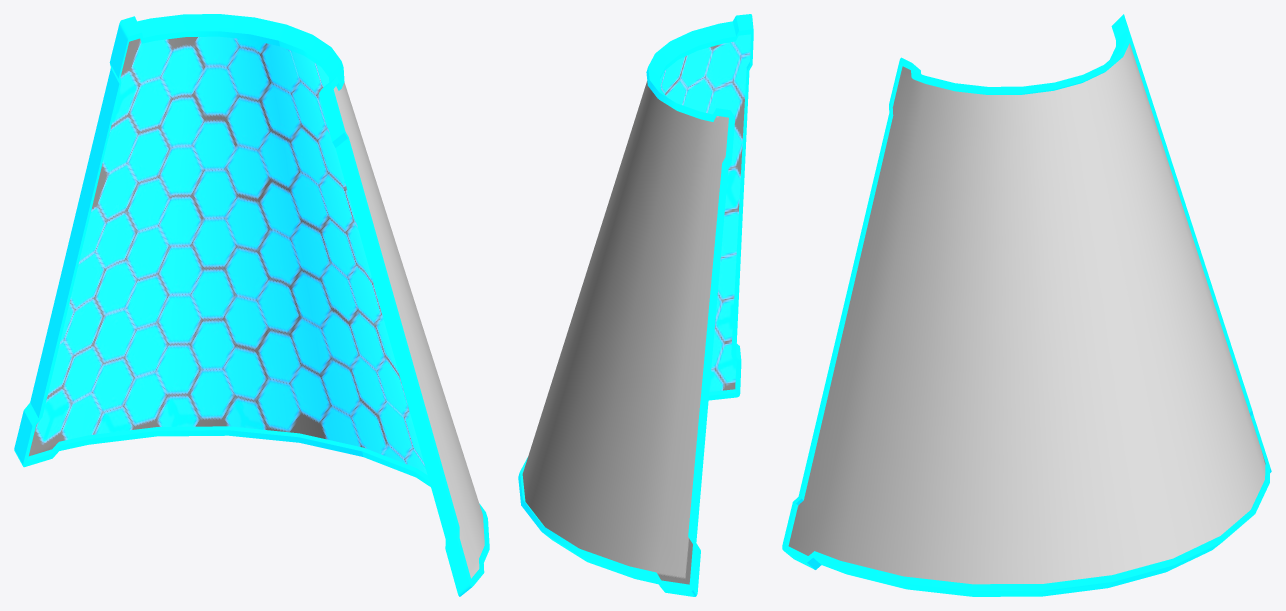
The model's file is shield.fbx.
3 renders of one model, left to right at view 1: azimuth 30°, elevation 25°; view 2: azimuth 150°, elevation 25°; view 3: azimuth 270°, elevation 25°, orthographic. The views are drawn at different scales.
Parts seen in each view (by area): view 1: defaultMaterial.026; view 2: defaultMaterial.026; view 3: defaultMaterial.026.
Part boxes in pixels (left/top/right/bottom): defaultMaterial.026: left=14, top=14, right=489, bottom=596; defaultMaterial.026: left=518, top=14, right=753, bottom=596; defaultMaterial.026: left=782, top=14, right=1271, bottom=596.
Bounding box in the file's own units: 1975 × 3101 × 2938.
Materials: 1 (1 with a texture image).
